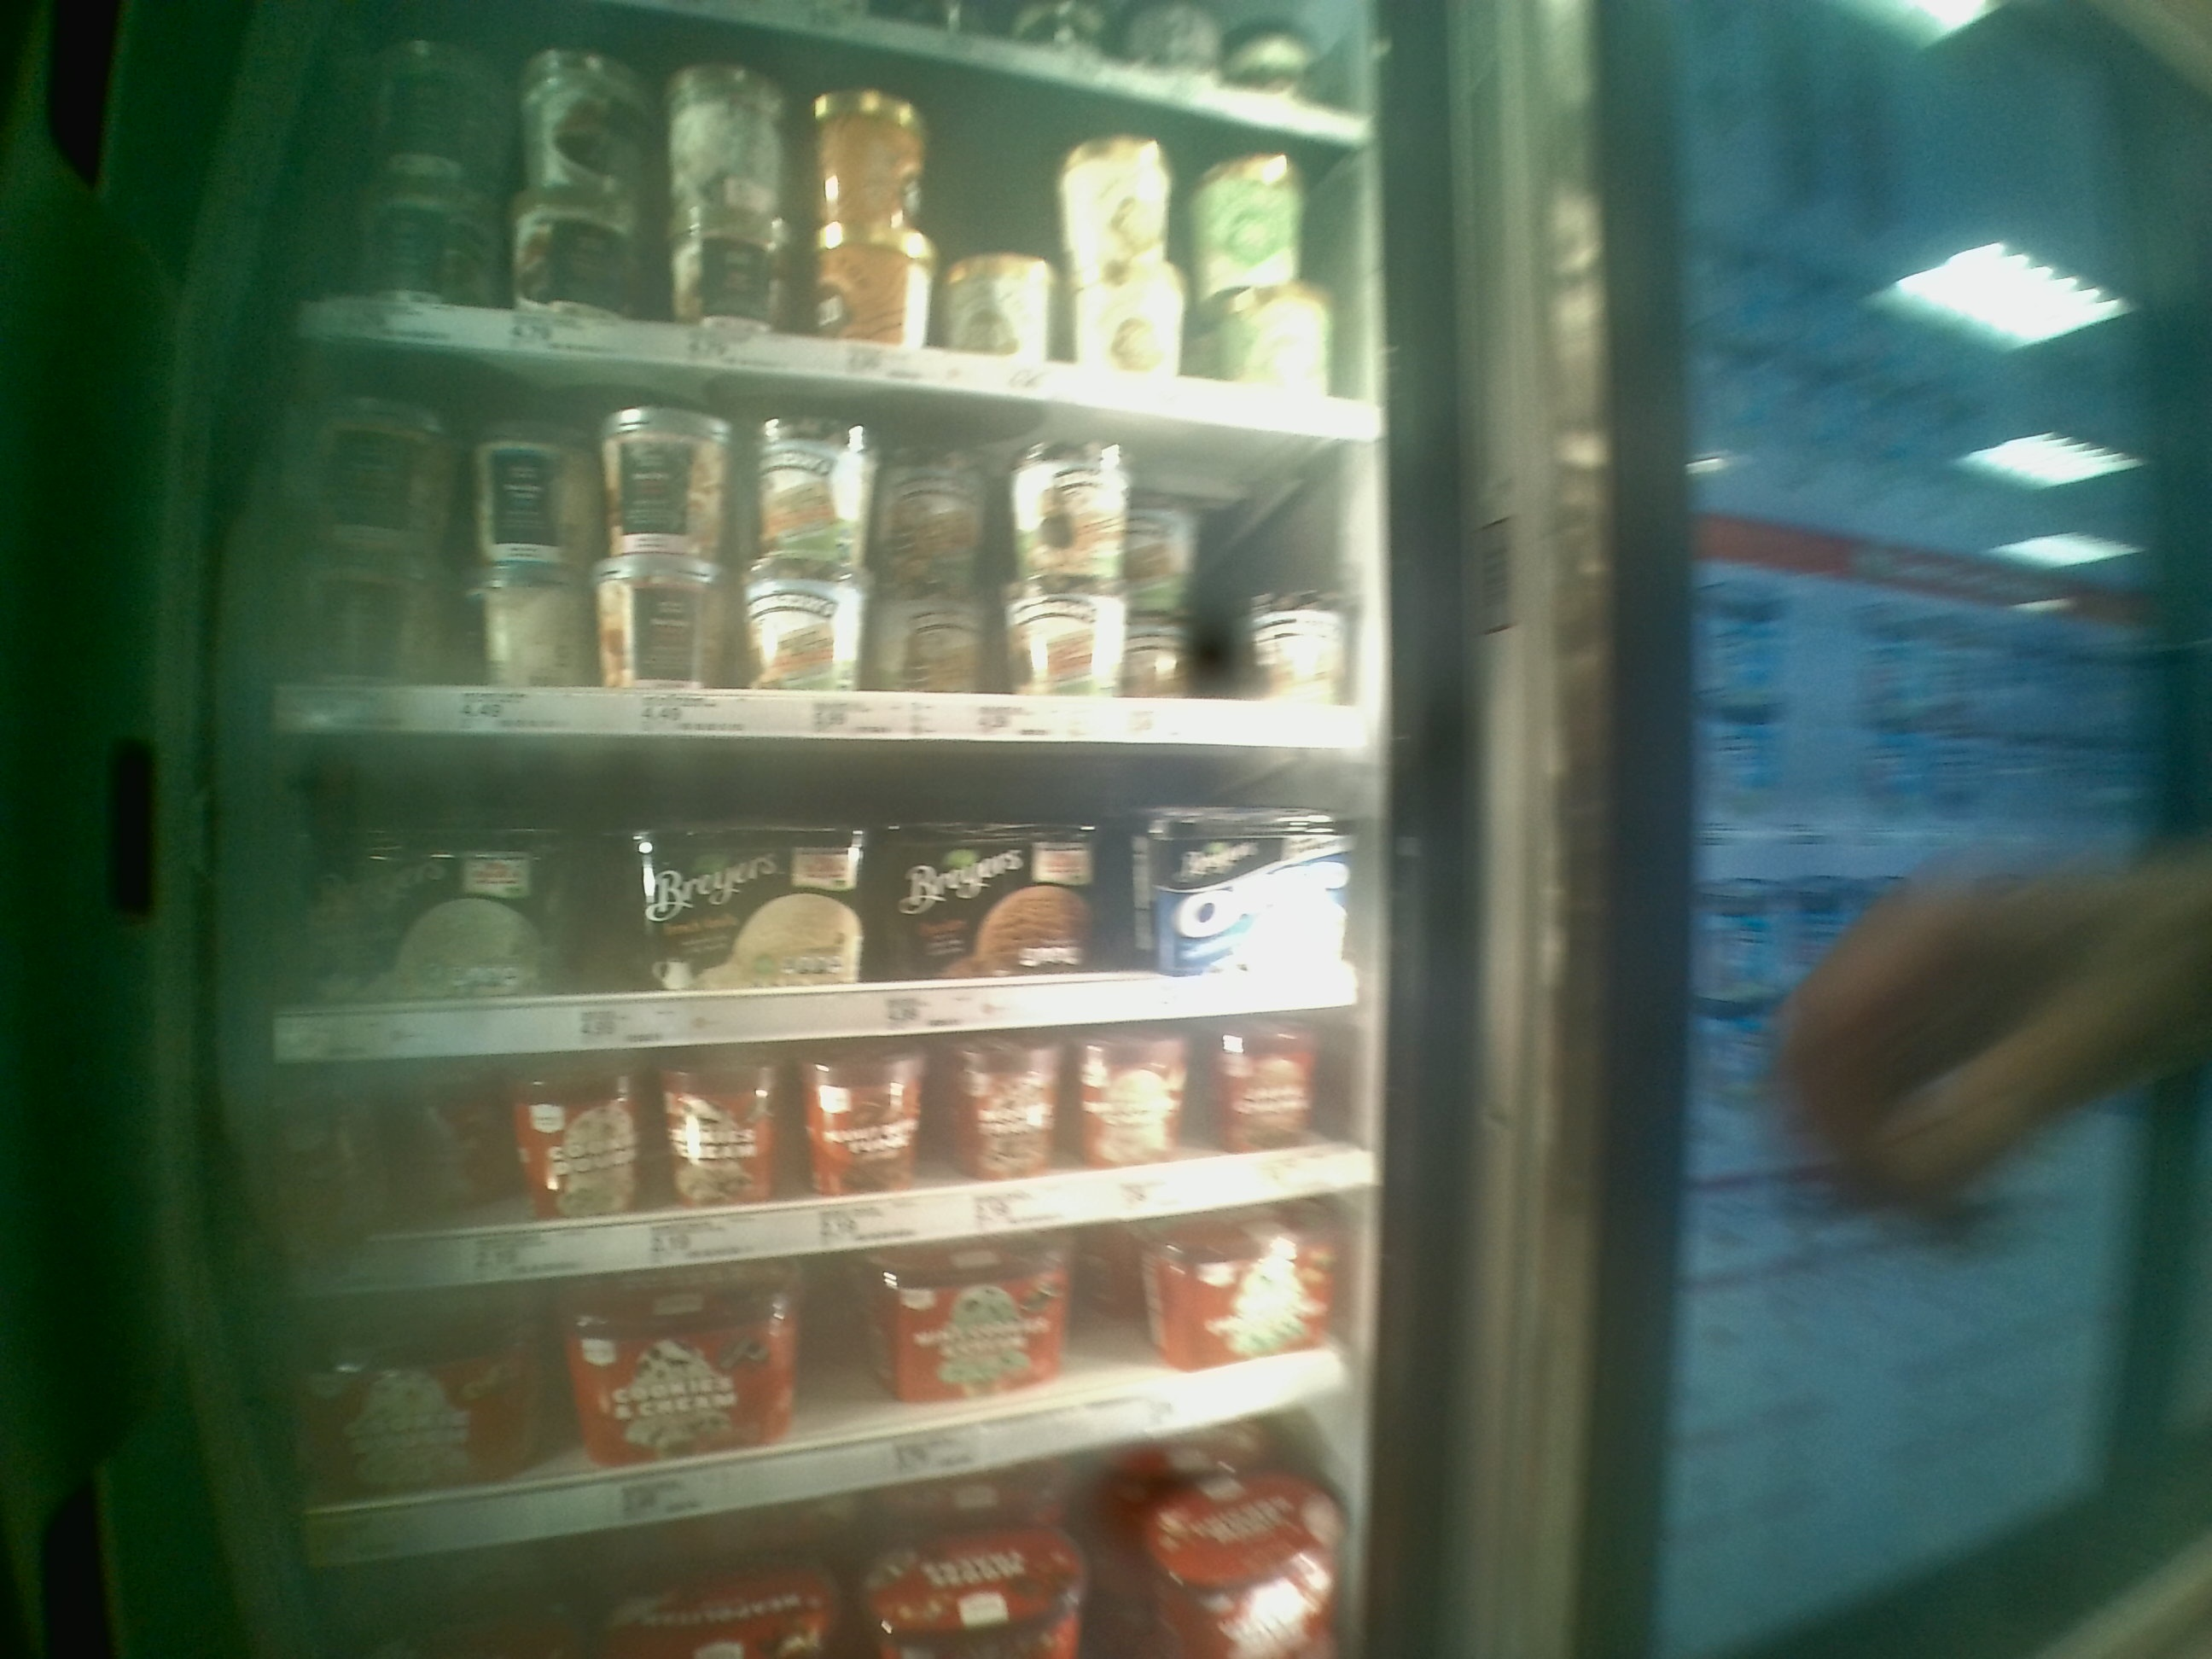shelf: (261, 329, 1385, 734), (263, 728, 1393, 1037), (279, 995, 1393, 1300)
